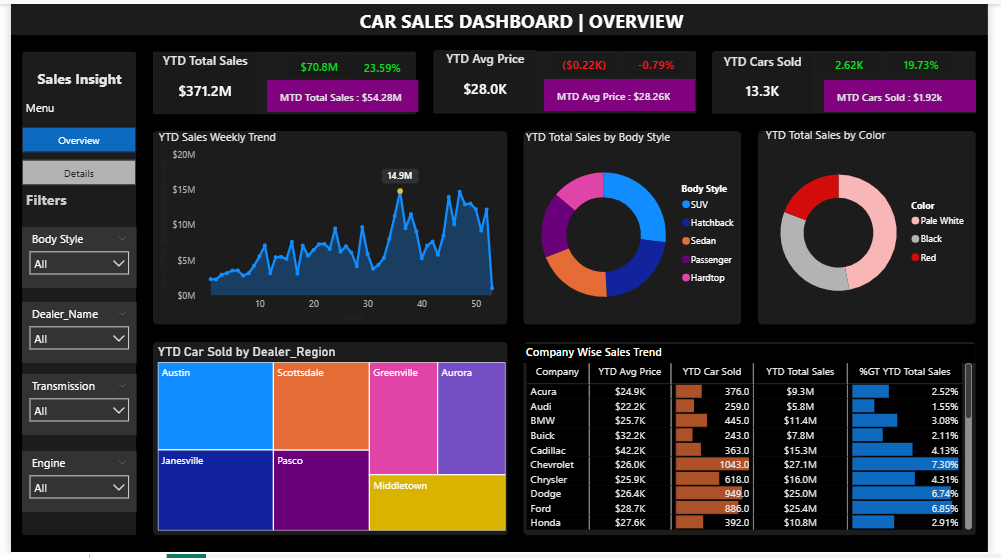

Layout of this report page (visuals, bound fields, positions):
{"tool":"powerbi","page":{"name":"Overview","canvas":[1280,720],"ordinal":0},"visuals":[{"type":"cardVisual","fields":{"Data":["car_data.Sales Difference"]},"box":[356.7,61.7,95,38.3],"z":0},{"type":"cardVisual","fields":{"Data":["car_data.YoY Sales Growth"]},"box":[438.3,61.7,95,41.7],"z":1000},{"type":"cardVisual","fields":{"Data":["car_data.MTD KPI"]},"box":[335,100,198.3,41.7],"z":2000},{"type":"cardVisual","title":"YTD Total Sales","fields":{"Data":["car_data.YTD Total Sales"]},"box":[188.3,63.3,131.7,80],"z":3000},{"type":"cardVisual","title":"YTD Avg Price","fields":{"Data":["car_data.YTD Avg Price"]},"box":[555,60,131.7,80],"z":4000},{"type":"cardVisual","fields":{"Data":["car_data.Avg Price Diff"]},"box":[702.7,59,95,38.9],"z":5000},{"type":"cardVisual","fields":{"Data":["car_data.YoY Avg Price Growth"]},"box":[797.8,59,95,38.9],"z":6000},{"type":"cardVisual","fields":{"Data":["car_data.MTD Avg Price KPI"]},"box":[698.3,98.3,198.3,41.7],"z":7000},{"type":"cardVisual","title":"YTD Cars Sold","fields":{"Data":["car_data.YTD Car Sold"]},"box":[917.3,64.8,132.5,79.2],"z":8000},{"type":"cardVisual","fields":{"Data":["car_data.Cars Sold Difference"]},"box":[1049.8,59,95,38.9],"z":9000},{"type":"cardVisual","fields":{"Data":["car_data.YoY Car Sold Growth"]},"box":[1144.8,59,95,38.9],"z":10000},{"type":"cardVisual","fields":{"Data":["car_data.MTD Cars Sold KPI"]},"box":[1064.2,99.4,198.7,41.8],"z":11000},{"type":"areaChart","title":"YTD Sales Weekly Trend","fields":{"Category":["Calendar Table.Week"],"Y":["Sum(car_data.Price ($))","car_data.Max Point on Area Chart"]},"box":[188.3,163.3,463.3,256.7],"z":12000},{"type":"donutChart","fields":{"Y":["car_data.YTD Total Sales"],"Category":["car_data.Body Style"]},"box":[668.3,163.3,291.7,256.7],"z":13000},{"type":"donutChart","fields":{"Y":["car_data.YTD Total Sales"],"Category":["car_data.Color"]},"box":[983.3,161.7,278.3,256.7],"z":14000},{"type":"treemap","fields":{"Group":["car_data.Dealer_Region"],"Values":["car_data.YTD Car Sold"]},"box":[187.2,445,465.1,249.1],"z":14001},{"type":"tableEx","title":"Company Wise Sales Trend","fields":{"Values":["car_data.Company","car_data.YTD Avg Price","car_data.YTD Car Sold","car_data.YTD Total Sales1","car_data.YTD Total Sales"]},"box":[668.6,445.1,593.5,248.5],"z":14002},{"type":"textbox","box":[452.2,0,465.1,44.6],"z":14003},{"type":"slicer","fields":{"Values":["car_data.Body Style"]},"box":[14.3,291.4,150.2,80.4],"z":14004},{"type":"slicer","fields":{"Values":["car_data.Dealer_Name"]},"box":[14.3,389.7,150.2,80.4],"z":14005},{"type":"slicer","fields":{"Values":["car_data.Transmission"]},"box":[14.3,484.5,150.2,80.4],"z":14006},{"type":"slicer","fields":{"Values":["car_data.Engine"]},"box":[14.3,584.6,150.2,80.4],"z":14007},{"type":"textbox","box":[14.3,237.8,150.2,37.5],"z":14008},{"type":"textbox","box":[14.4,79.2,149.8,41.8],"z":14009},{"type":"textbox","box":[14.4,121,74.9,40.3],"z":14010},{"type":"pageNavigator","box":[14.4,161.3,149.8,76.3],"z":14011}]}

Visuals, with their boxes in screenshot pixels (x1, y1, x2, y2), scaled from the page's 1280x720 canvas onto the 1001x558 screenshot:
cardVisual - car_data.Sales Difference: x1=279, y1=48, x2=353, y2=78
cardVisual - car_data.YoY Sales Growth: x1=343, y1=48, x2=417, y2=80
cardVisual - car_data.MTD KPI: x1=262, y1=78, x2=417, y2=110
"YTD Total Sales" cardVisual: x1=147, y1=49, x2=250, y2=111
"YTD Avg Price" cardVisual: x1=434, y1=46, x2=537, y2=108
cardVisual - car_data.Avg Price Diff: x1=550, y1=46, x2=624, y2=76
cardVisual - car_data.YoY Avg Price Growth: x1=624, y1=46, x2=698, y2=76
cardVisual - car_data.MTD Avg Price KPI: x1=546, y1=76, x2=701, y2=108
"YTD Cars Sold" cardVisual: x1=717, y1=50, x2=821, y2=112
cardVisual - car_data.Cars Sold Difference: x1=821, y1=46, x2=895, y2=76
cardVisual - car_data.YoY Car Sold Growth: x1=895, y1=46, x2=970, y2=76
cardVisual - car_data.MTD Cars Sold KPI: x1=832, y1=77, x2=988, y2=109
"YTD Sales Weekly Trend" areaChart: x1=147, y1=127, x2=510, y2=326
donutChart - car_data.YTD Total Sales x car_data.Body Style: x1=523, y1=127, x2=751, y2=326
donutChart - car_data.YTD Total Sales x car_data.Color: x1=769, y1=125, x2=987, y2=324
treemap - car_data.Dealer_Region x car_data.YTD Car Sold: x1=146, y1=345, x2=510, y2=538
"Company Wise Sales Trend" tableEx: x1=523, y1=345, x2=987, y2=538
textbox: x1=354, y1=0, x2=717, y2=35
slicer - car_data.Body Style: x1=11, y1=226, x2=129, y2=288
slicer - car_data.Dealer_Name: x1=11, y1=302, x2=129, y2=364
slicer - car_data.Transmission: x1=11, y1=375, x2=129, y2=438
slicer - car_data.Engine: x1=11, y1=453, x2=129, y2=515
textbox: x1=11, y1=184, x2=129, y2=213
textbox: x1=11, y1=61, x2=128, y2=94
textbox: x1=11, y1=94, x2=70, y2=125
pageNavigator: x1=11, y1=125, x2=128, y2=184
